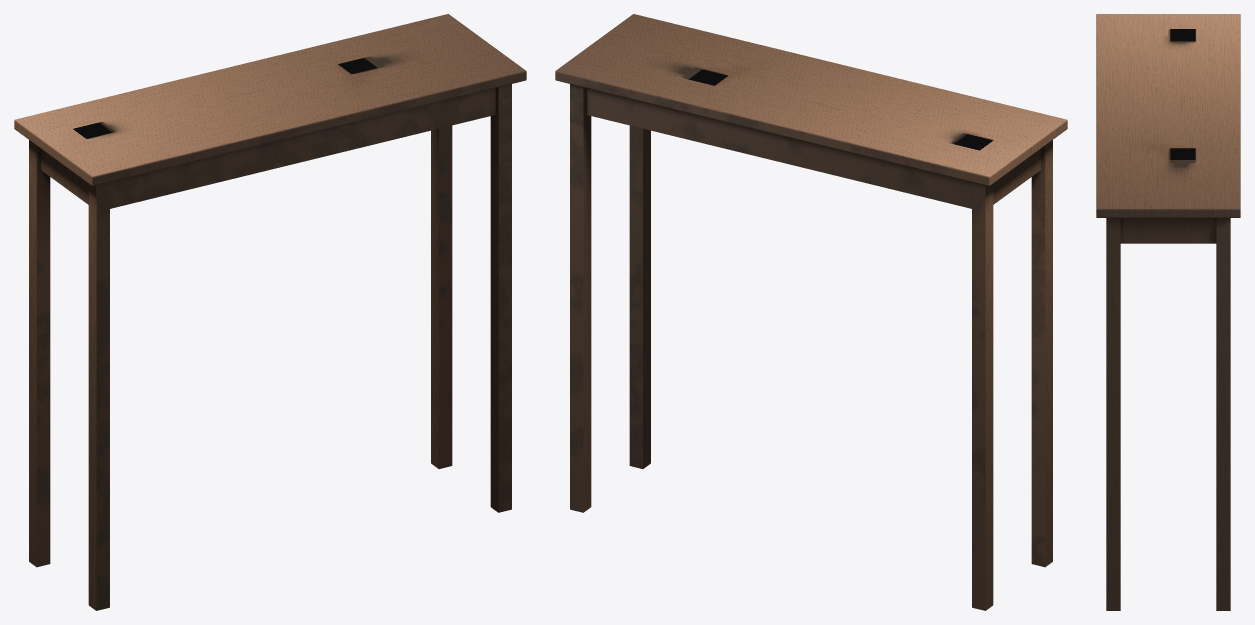
File: 815_pull.glb
The picture shows the model from 3 angles, left to right: view 1: azimuth 30°, elevation 25°; view 2: azimuth 150°, elevation 25°; view 3: azimuth 270°, elevation 25°; orthographic projection. The views are drawn at different scales.
Visible parts, largest first — view 1: Table; view 2: Table; view 3: Table.
Part boxes in pixels (x1,y1,x2,y2): Table: (14,14,526,610); Table: (555,14,1067,610); Table: (1096,14,1240,610).
Size of what is drawn, in the model's own units: 3.2 by 3.1 by 1.
Materials: 1 (1 with a texture image).
